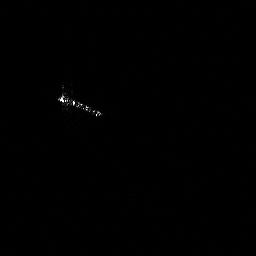ship: (54, 85, 106, 119)
